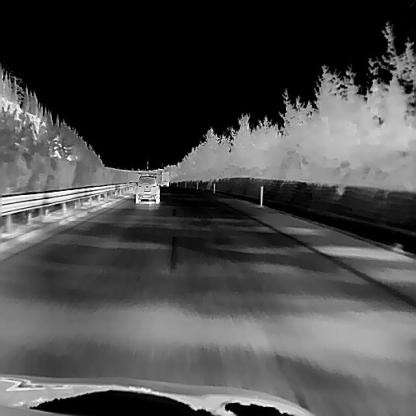car: (135, 173, 159, 204)
truck: (155, 170, 169, 186)
